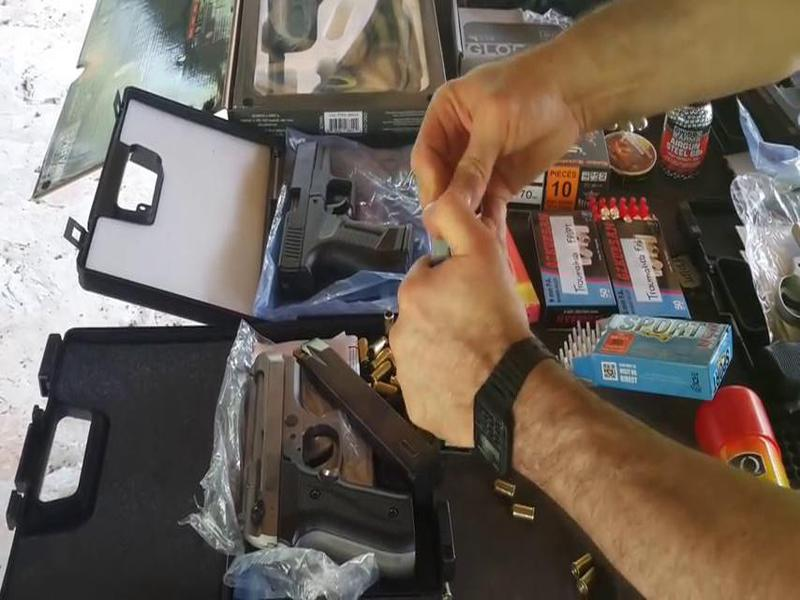Pistola: (216, 321, 442, 565), (265, 131, 428, 313)
